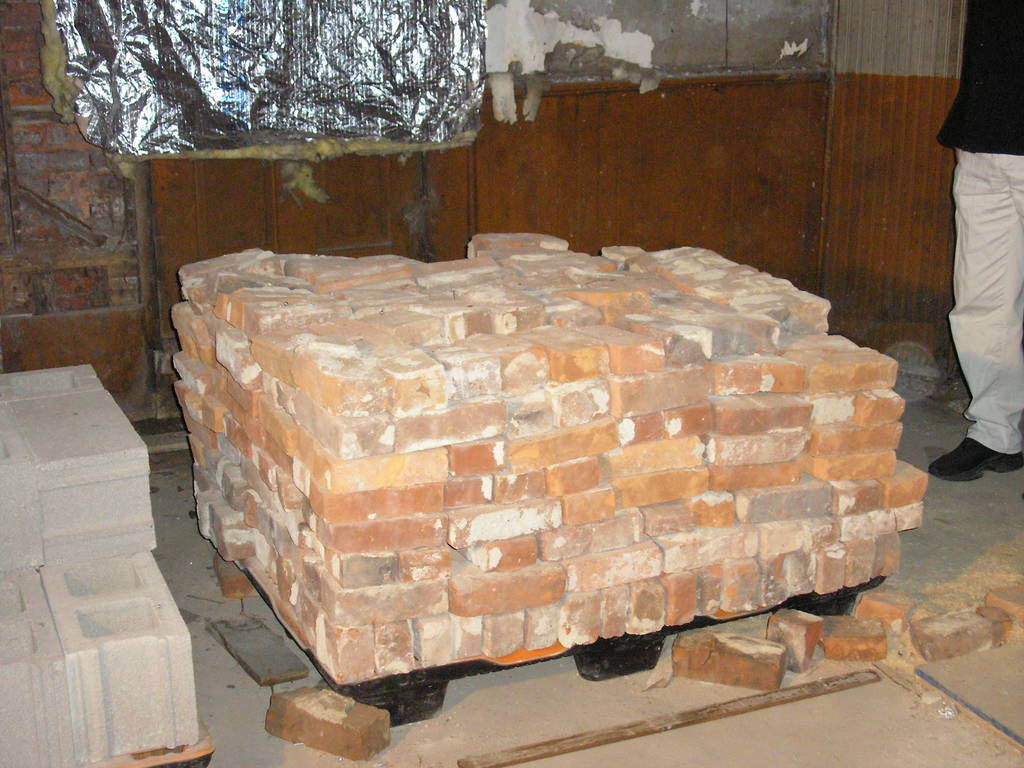Person: (927, 0, 1023, 499)
